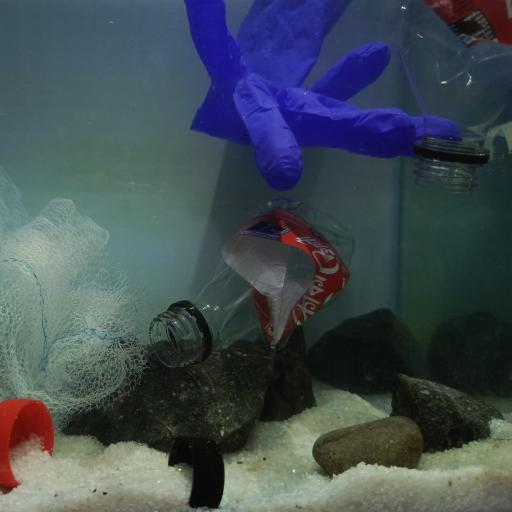bottle_cap: (0, 398, 55, 489), (168, 436, 224, 512)
glove: (177, 0, 462, 193)
net: (0, 172, 146, 420)
plastic_bottle: (150, 197, 357, 368), (398, 0, 512, 192)
